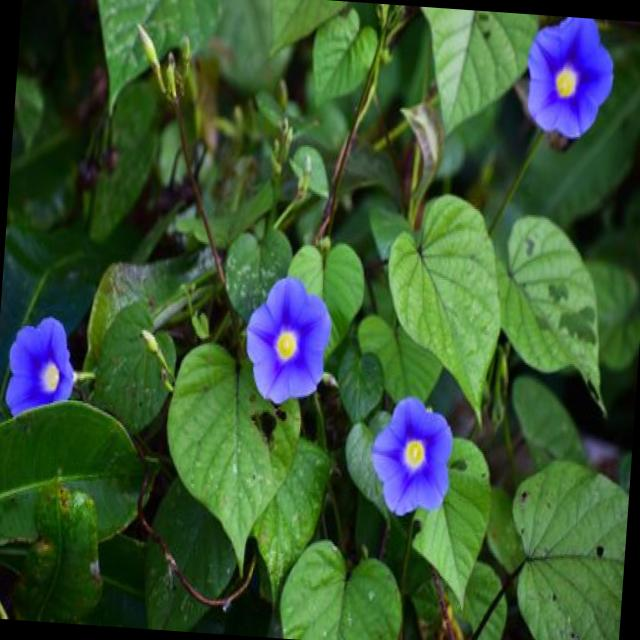ipomoea: (237, 269, 337, 412), (518, 14, 620, 149), (362, 390, 458, 524), (0, 309, 82, 425)
